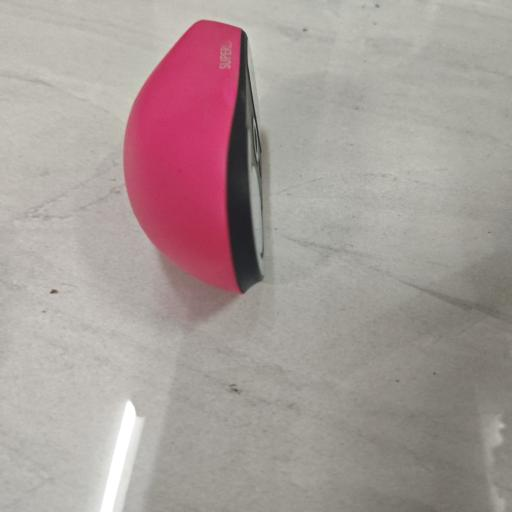mouse: (124, 20, 264, 293)
